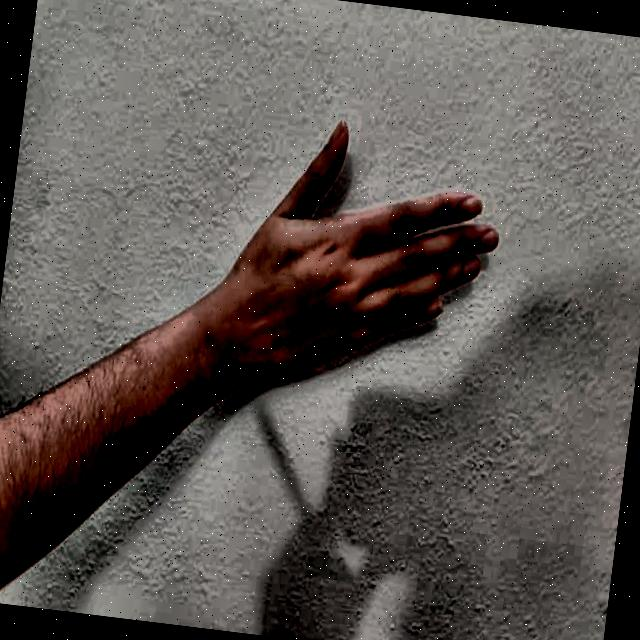Aa: (196, 62, 538, 466)
